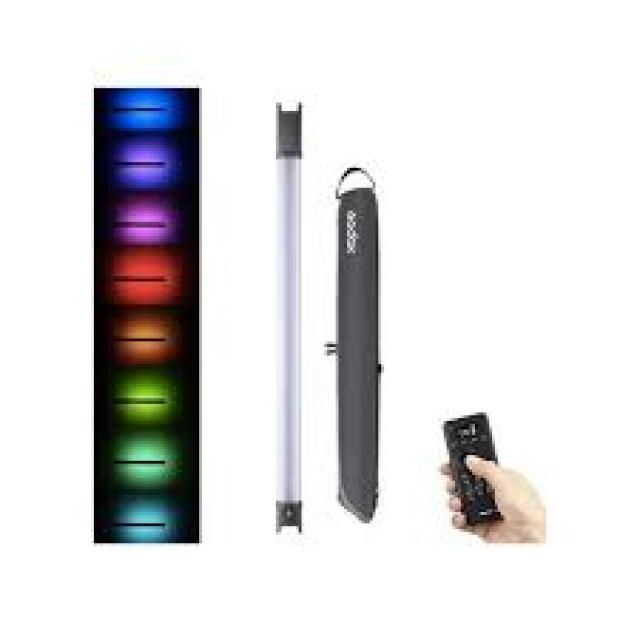tubelight_off: (266, 100, 310, 538)
tubelight_on: (110, 204, 177, 238), (106, 507, 180, 535), (105, 387, 181, 414), (104, 448, 176, 476), (104, 267, 176, 294), (106, 149, 176, 176), (103, 102, 176, 120), (106, 332, 168, 351)
